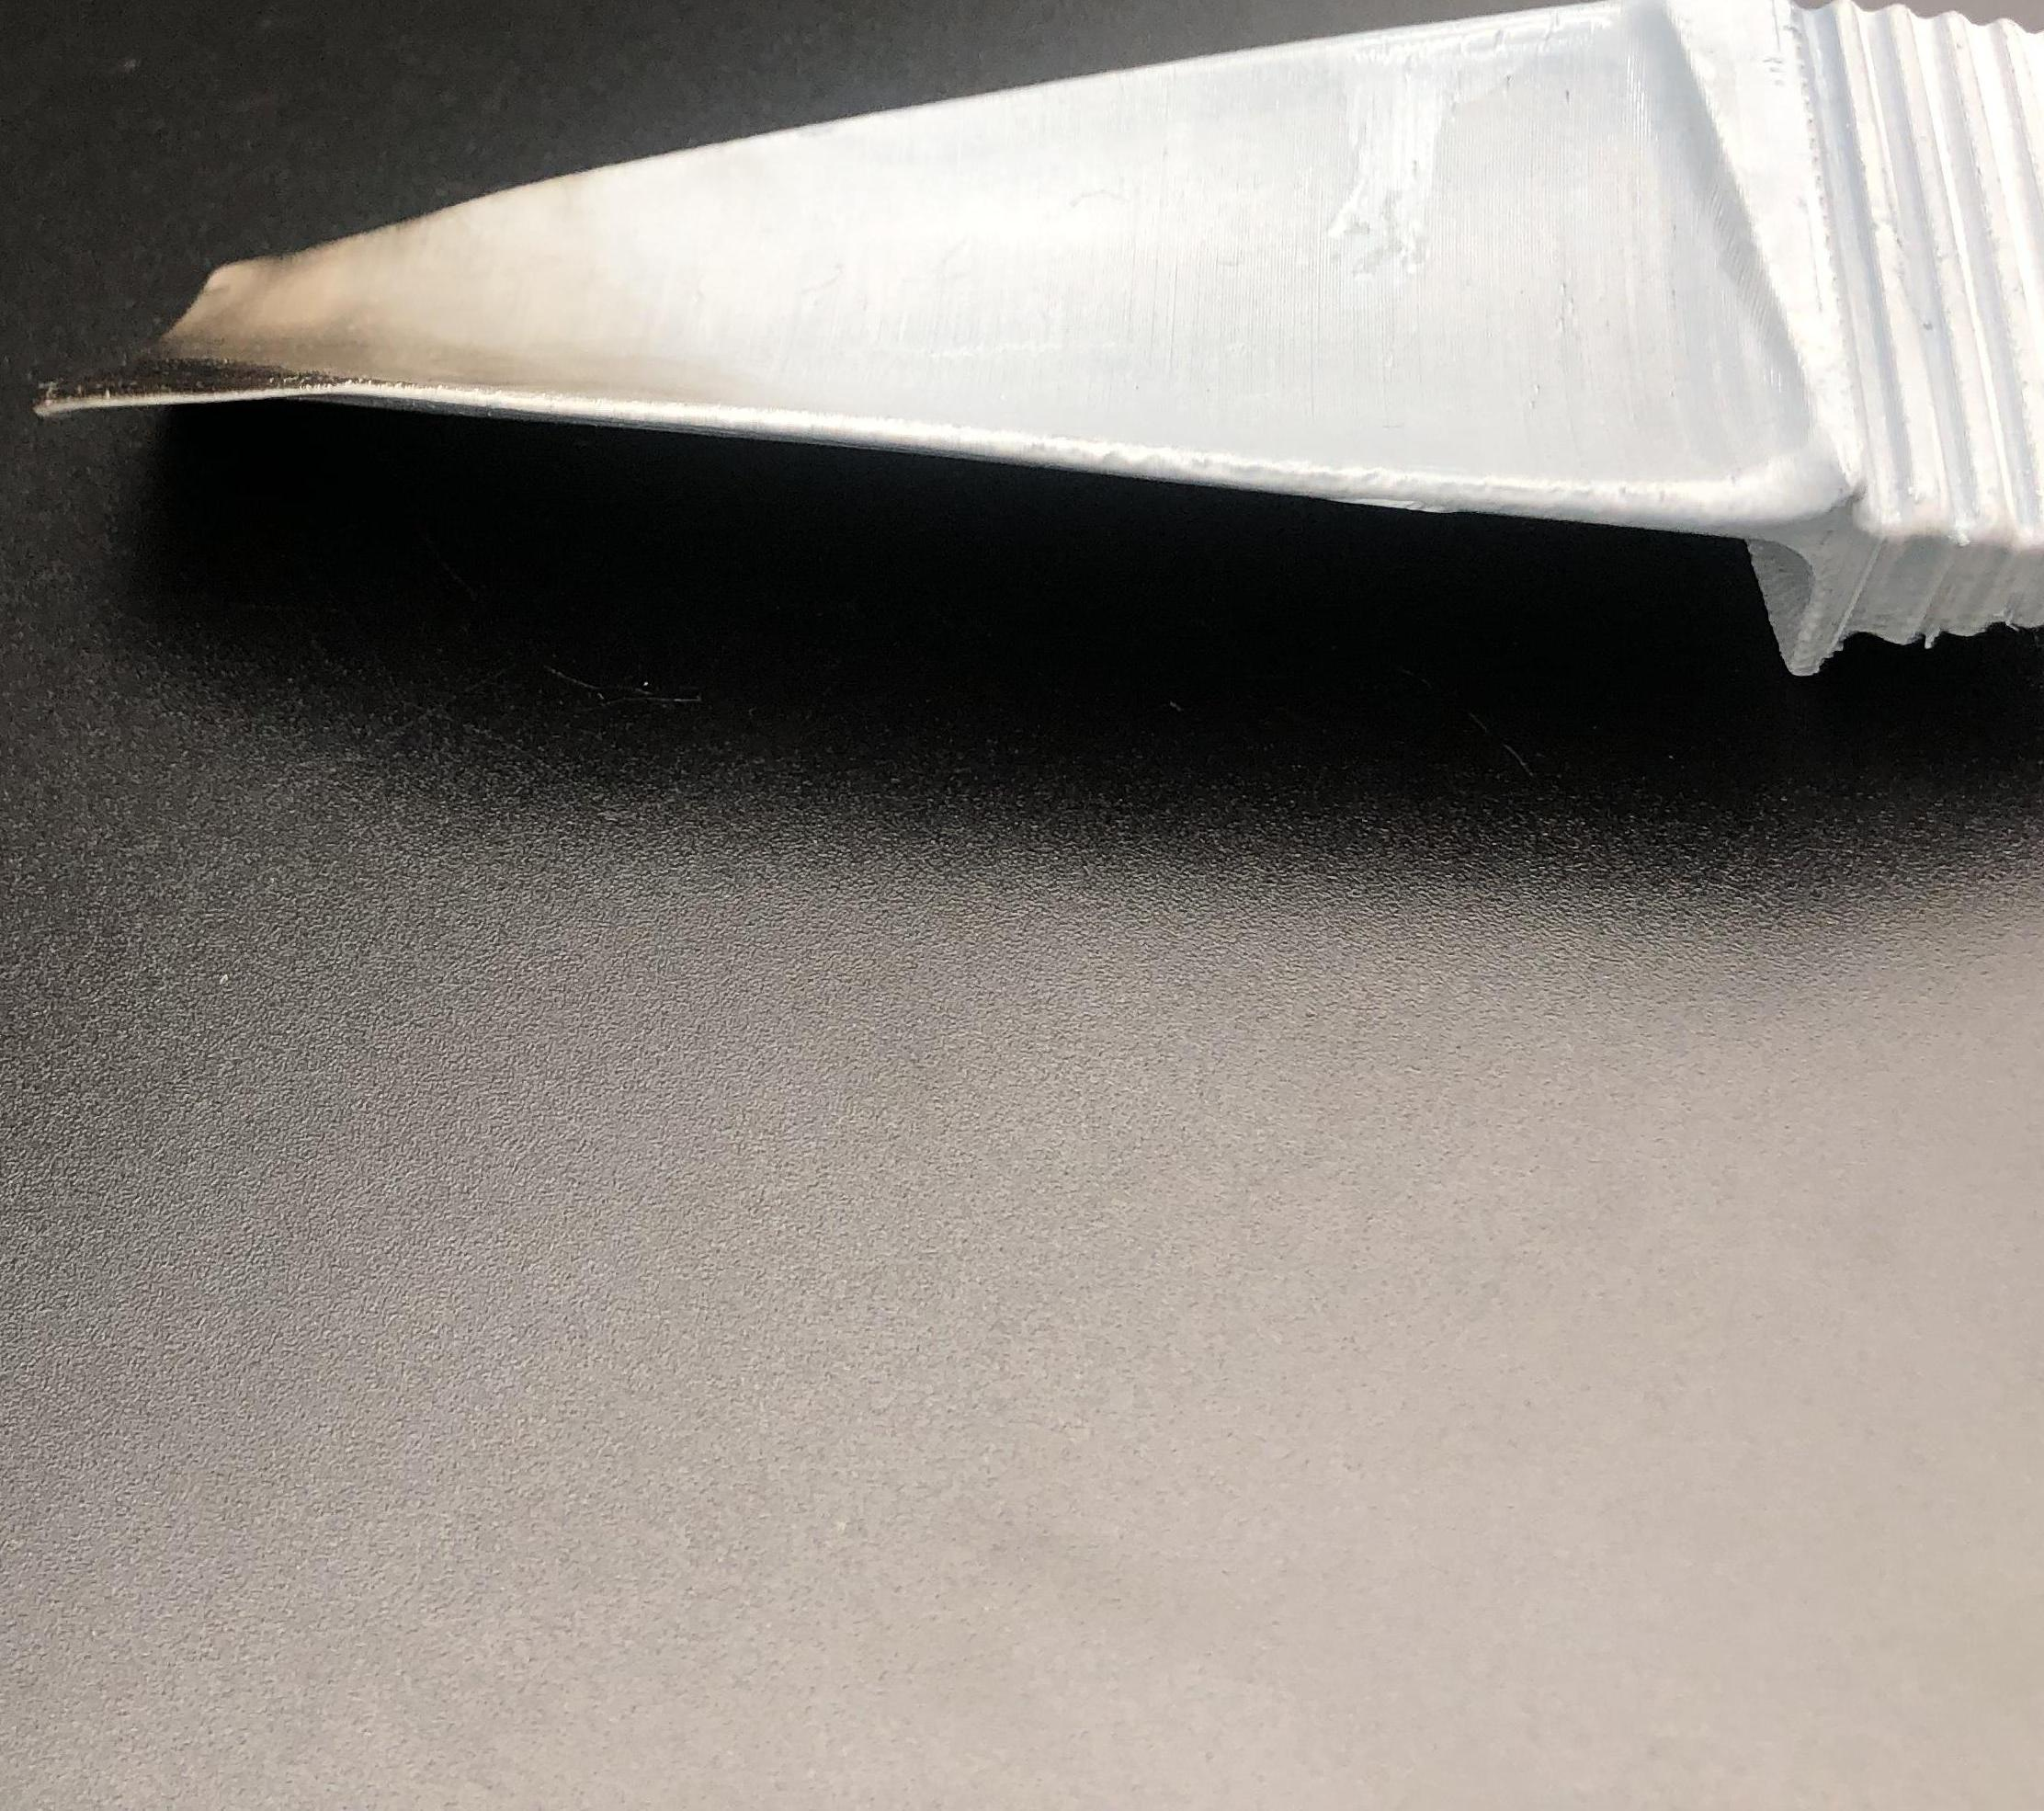ablation: (155, 271, 522, 395)
